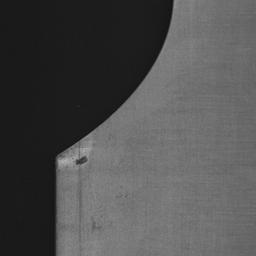Crescent gap: (59, 0, 173, 154)
